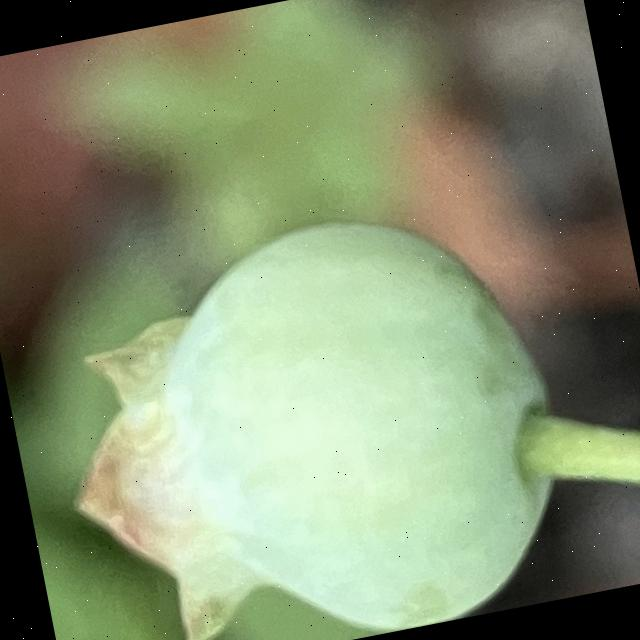Blueberries: (34, 180, 593, 640)
